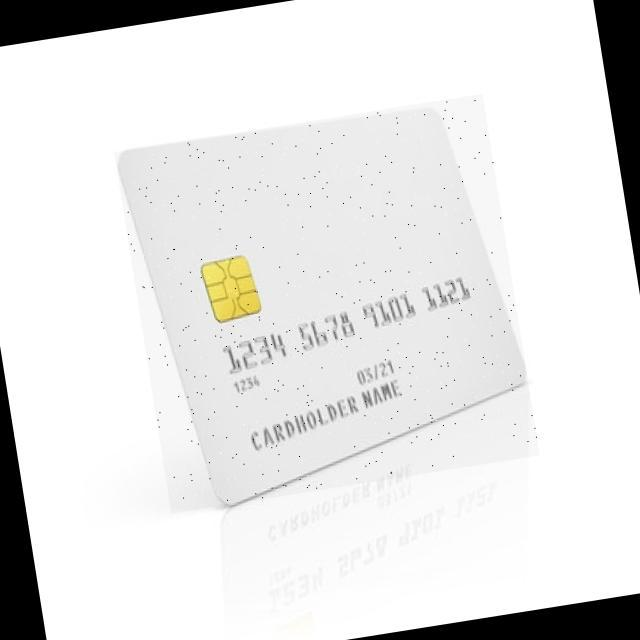payment_card: (115, 92, 535, 509)
